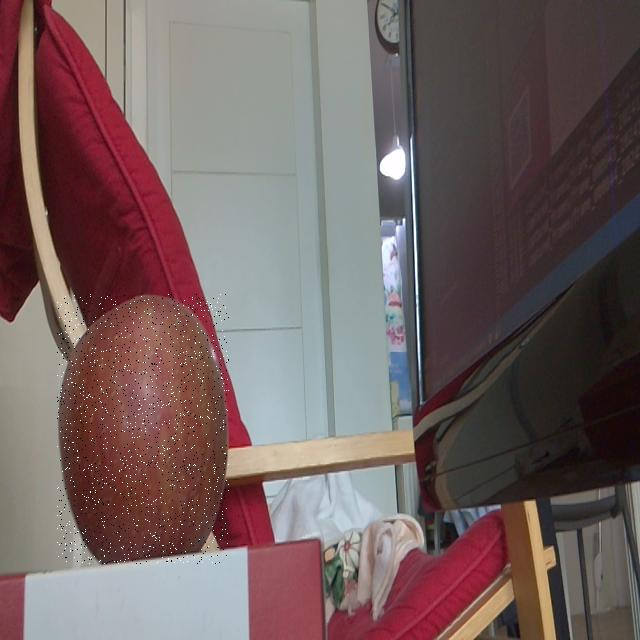apple: (57, 294, 229, 564)
